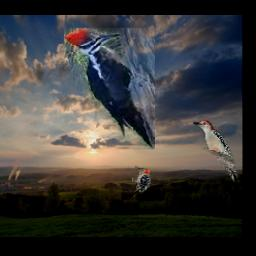Woodpecker: (64, 28, 155, 149), (192, 120, 238, 183), (132, 165, 153, 198)
